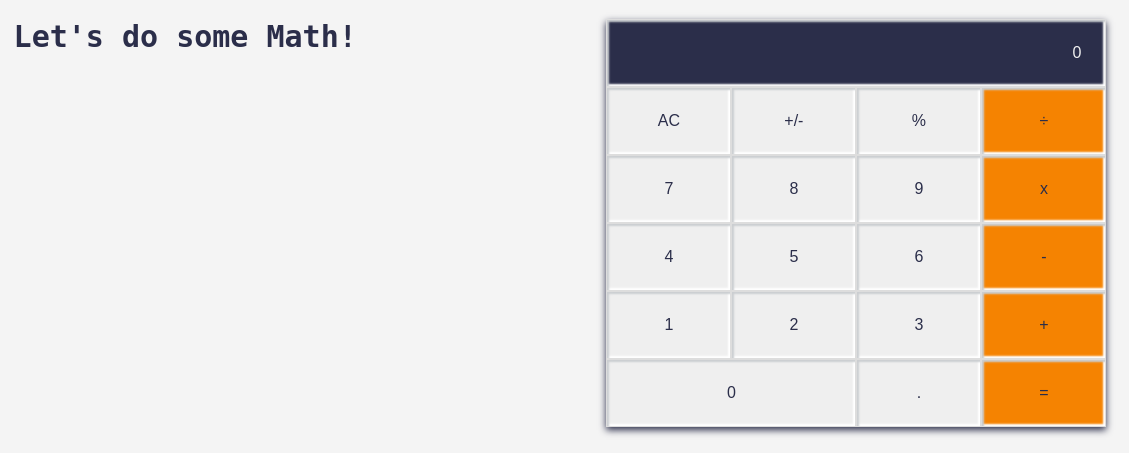
Scenario: Calculator › Responds on user pressing two numbers
Click the button "1" at [669, 325], box [606, 291, 731, 359]
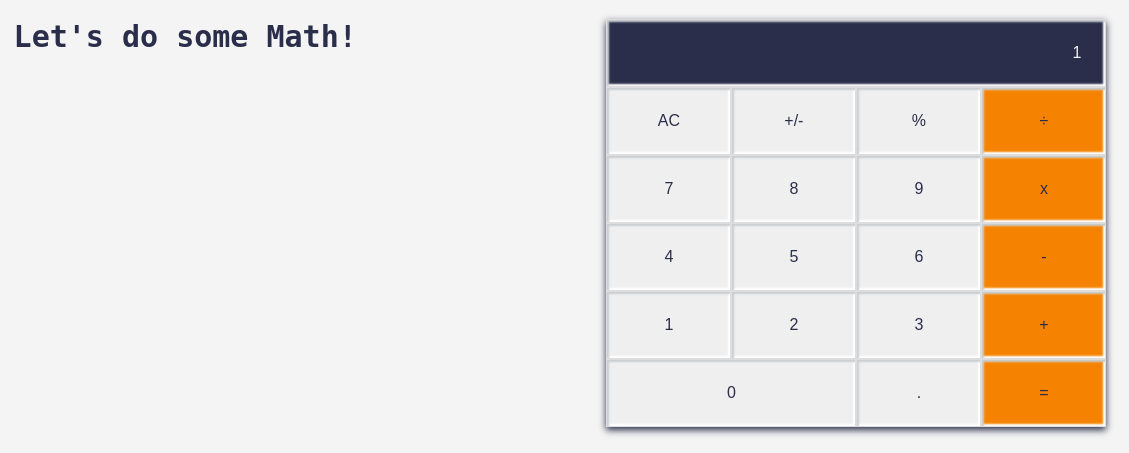
Click the button "2" at [794, 325], box [731, 291, 856, 359]
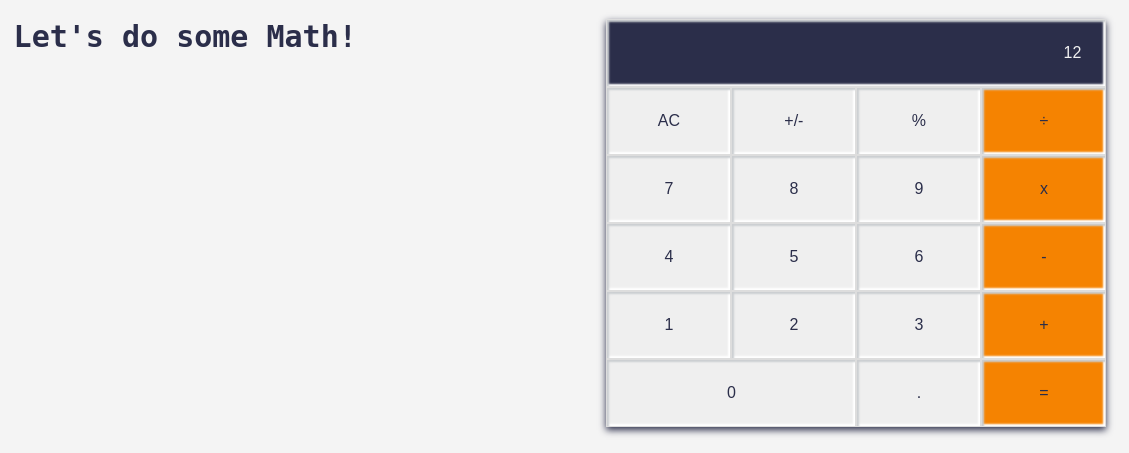
Result: the field holds "12" at [606, 19, 1106, 87]
